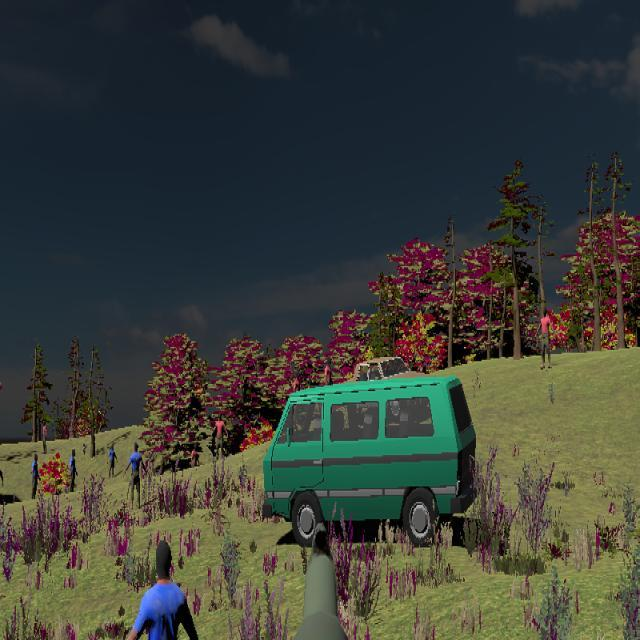Human: (112, 540, 208, 640), (124, 442, 147, 510), (536, 307, 555, 370), (212, 413, 229, 463)
car: (262, 378, 477, 550)
